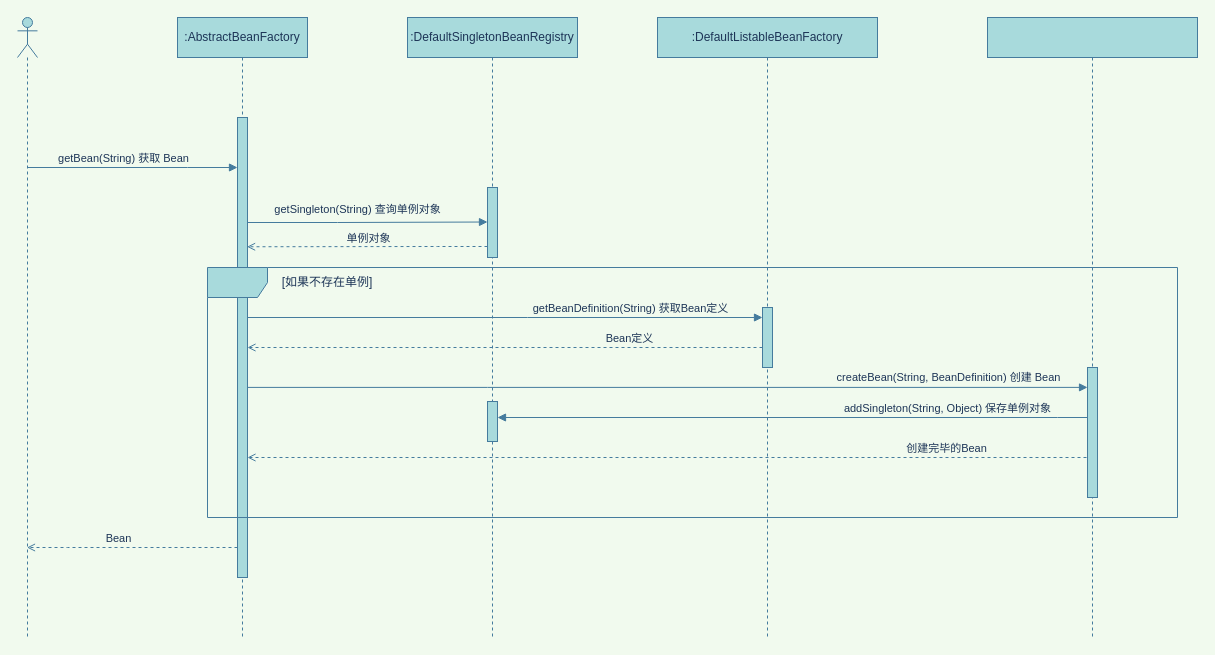
This 1215x655 diagram has some shape labels left out. Here are the shapes that lost their labels. From the top down, the box of each, then its label:
(986, 16, 1198, 638): :AbstractAutowireCapableBeanFactory
(206, 266, 1178, 518): opt
